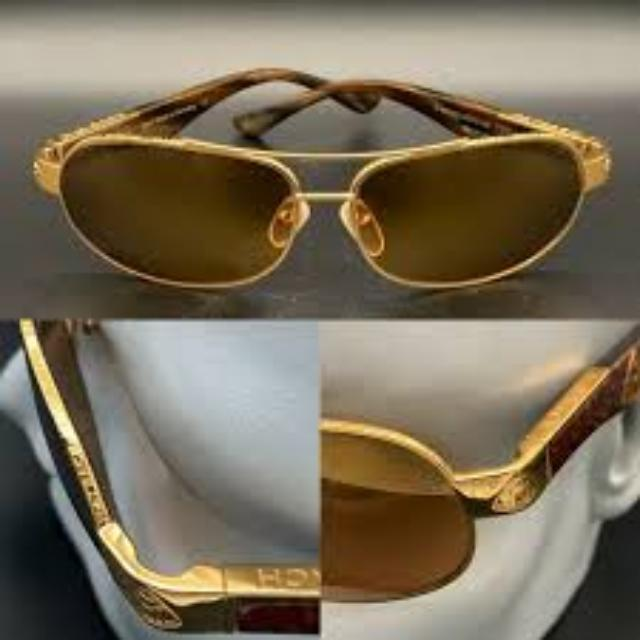sunglasses: (32, 65, 610, 292)
